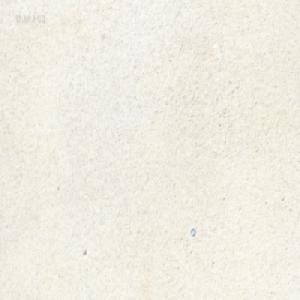Washer: (190, 227, 195, 236)
